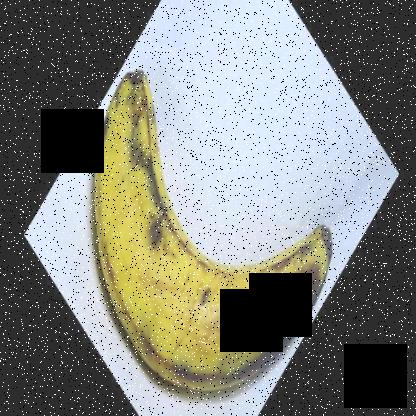ripe: (86, 58, 351, 403)
